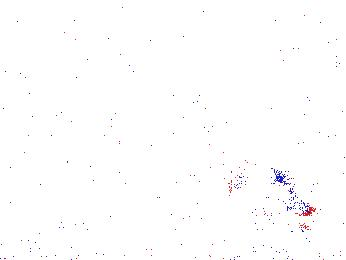flame jellyfish: (228, 162, 316, 216), (97, 170, 163, 227), (161, 172, 221, 228)
